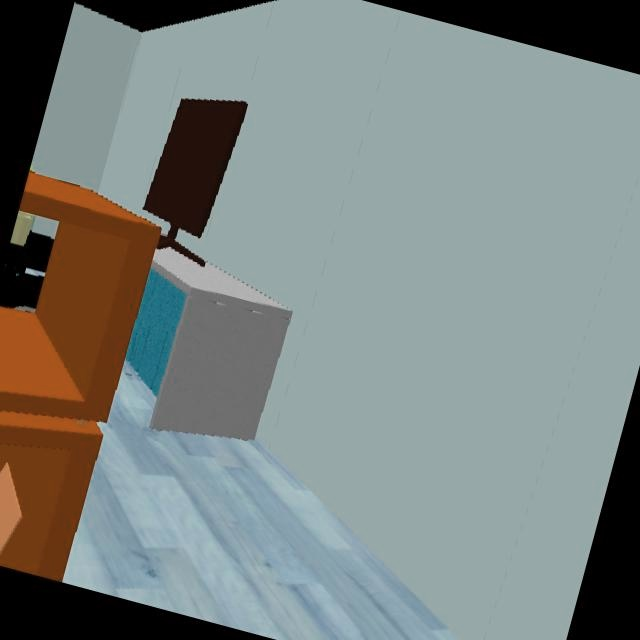monitor: (144, 99, 248, 239)
